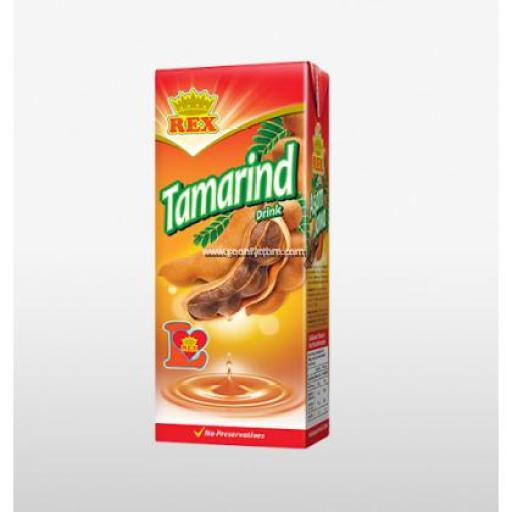drink carton: (151, 61, 334, 450)
